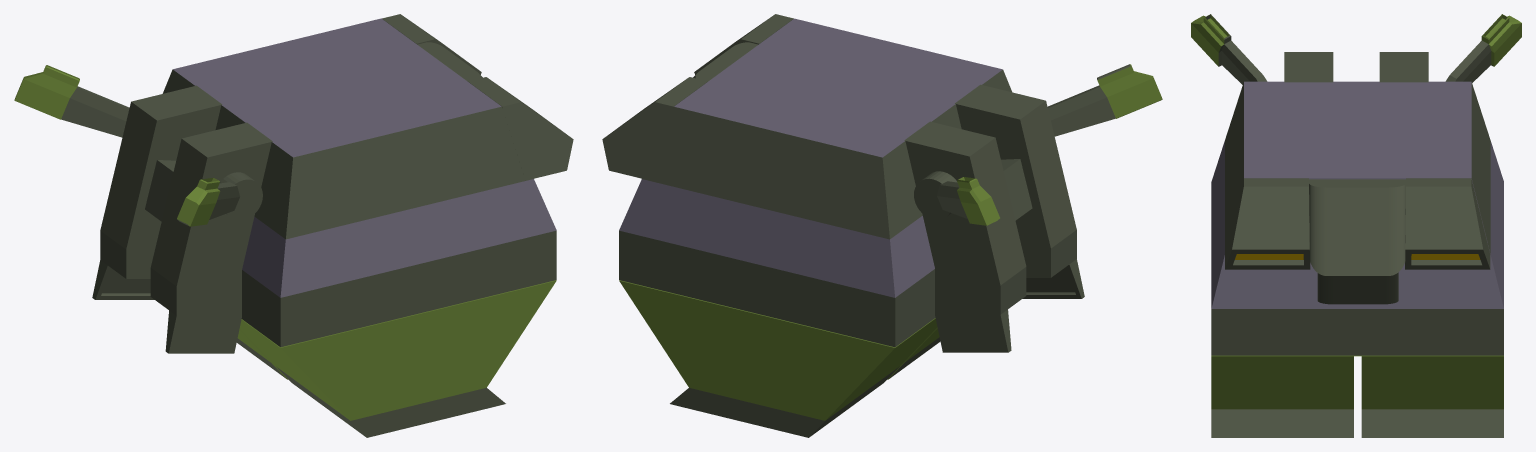
Rendered from body+leg.glb.
3 views of the same model, side by side, from view 1: azimuth 30°, elevation 25°; view 2: azimuth 150°, elevation 25°; view 3: azimuth 270°, elevation 25° (orthographic). The views are drawn at different scales.
Parts seen in each view (by area): view 1: Sphere; view 2: Sphere; view 3: Sphere.
Boxes of the visible parts, x1,y1,x2,y2 form: Sphere: (14, 14, 573, 437); Sphere: (602, 14, 1162, 437); Sphere: (1191, 14, 1521, 437).
Size of the model in its own units: 1.95 by 1.33 by 1.41.
